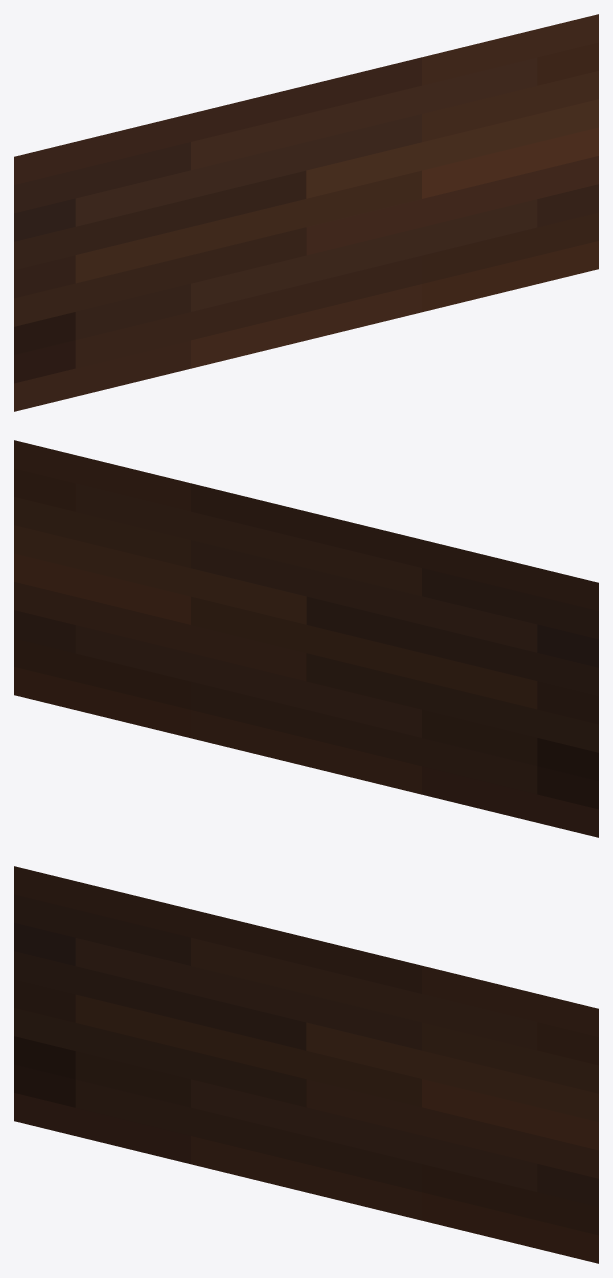
Rendered from Wall_HomeA-TypeF-6m.fbx.
3 renders of one model, top to bottom at view 1: azimuth 30°, elevation 25°; view 2: azimuth 150°, elevation 25°; view 3: azimuth 330°, elevation 25°, orthographic.
Visible parts, largest first — view 1: Wall_HomeA-TypeF-6m; view 2: Wall_HomeA-TypeF-6m; view 3: Wall_HomeA-TypeF-6m.
Part boxes in pixels (<box>): Wall_HomeA-TypeF-6m: <box>14,14,598,411</box>; Wall_HomeA-TypeF-6m: <box>14,440,598,837</box>; Wall_HomeA-TypeF-6m: <box>14,866,598,1263</box>.
Bounding box in the file's own units: 600 × 250 × 0.000139.
